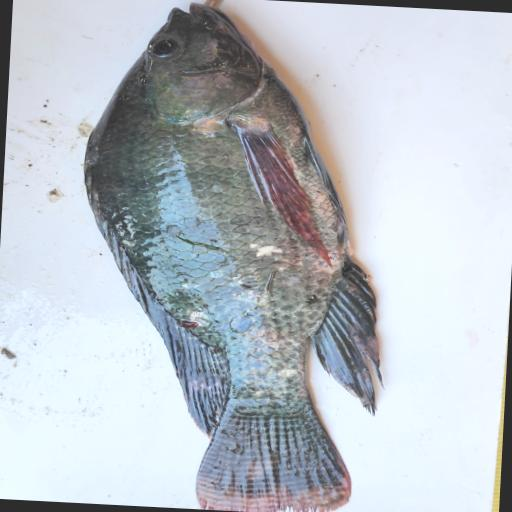Tilapia: (65, 0, 405, 512)
